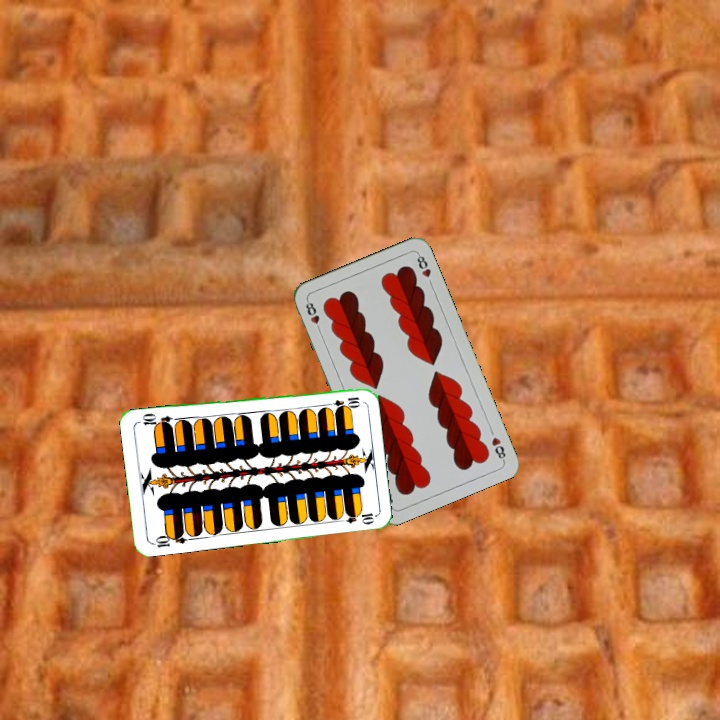E10: (148, 528, 189, 550), (322, 393, 363, 410)
H8: (301, 297, 324, 335), (487, 433, 508, 463)
